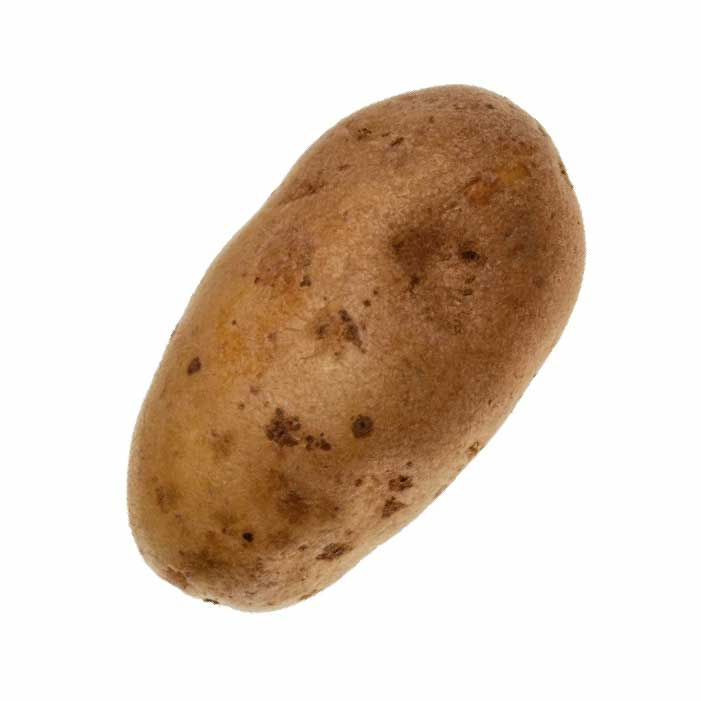Kartoffel: (127, 84, 587, 612)
